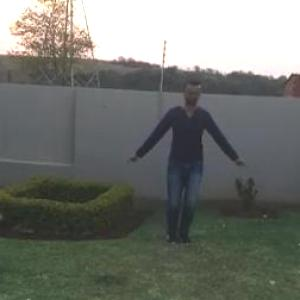land: (121, 68, 246, 252)
